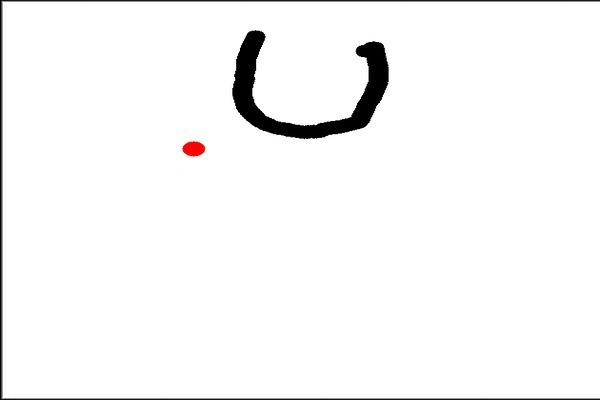U: (227, 23, 395, 146)
